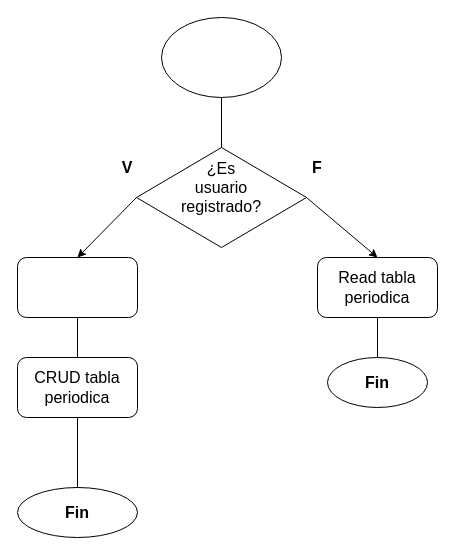
This 455x555 diagram has some shape labels left out. The box of each missing label's shape, as (x1, y1, x2, y2) in pixels:
Inicio: (160, 16, 282, 98)
Login: (16, 256, 138, 318)
